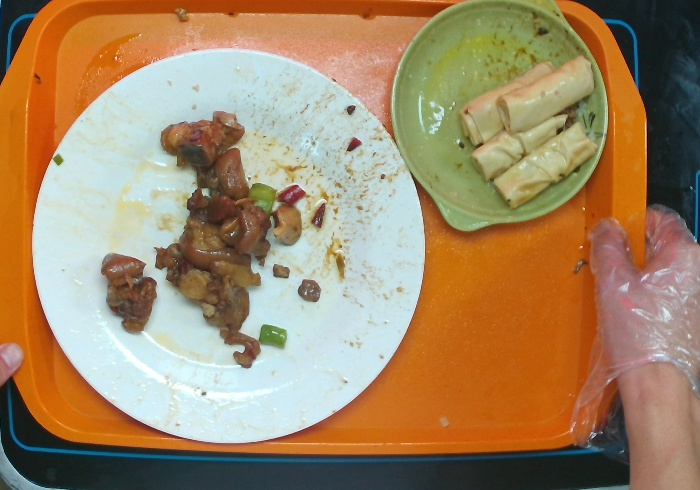NLDX-Da_Yuan_Pan: (28, 45, 431, 445)
NLDX-Lv_Hua_Shuang_Er_Die: (387, 1, 613, 237)
